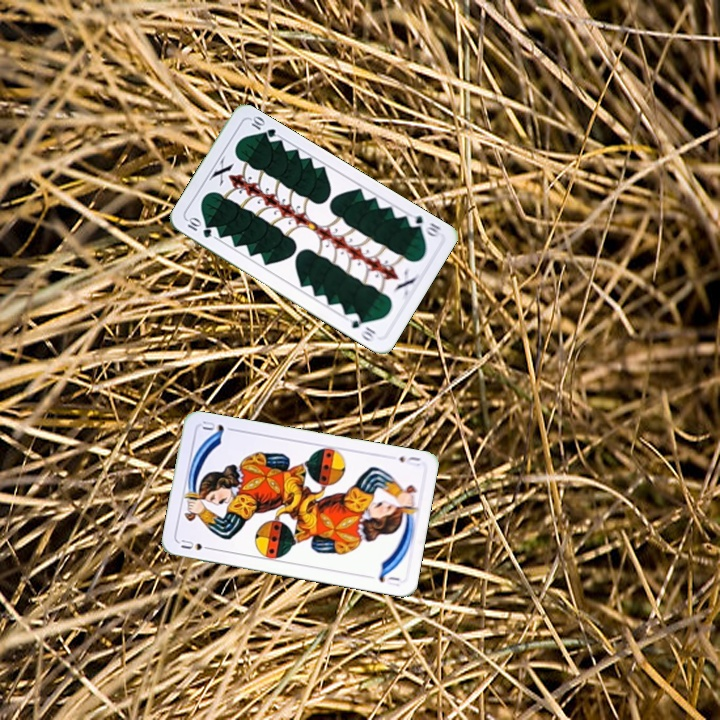G10: (403, 210, 444, 239), (183, 214, 214, 241)
SU: (177, 535, 216, 553), (395, 452, 423, 469)
